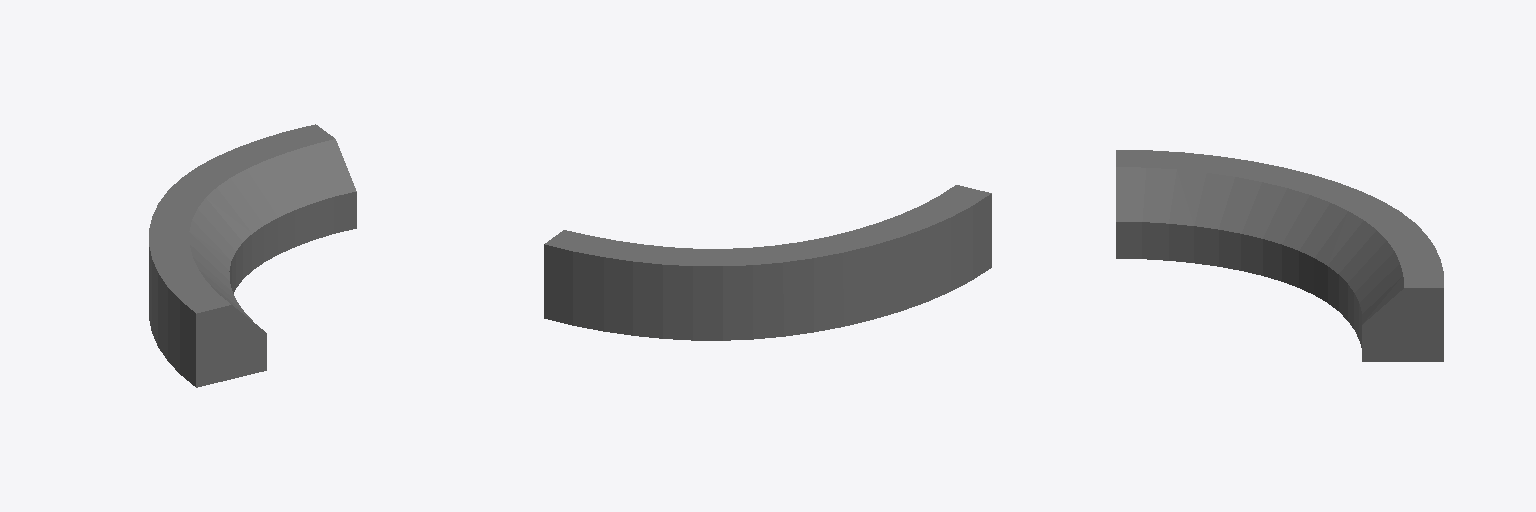
File: OutsideBend_LP.obj
3 views of the same model, side by side, from view 1: azimuth 30°, elevation 25°; view 2: azimuth 150°, elevation 25°; view 3: azimuth 270°, elevation 25° (orthographic).
Parts seen in each view (by area): view 1: OutsideBend1; view 2: OutsideBend1; view 3: OutsideBend1.
Part boxes in pixels (x1,y1,x2,y2): OutsideBend1: (149,124,356,387); OutsideBend1: (544,185,991,340); OutsideBend1: (1116,150,1443,361).
Size of the model in its own units: 3.99 by 1 by 4.